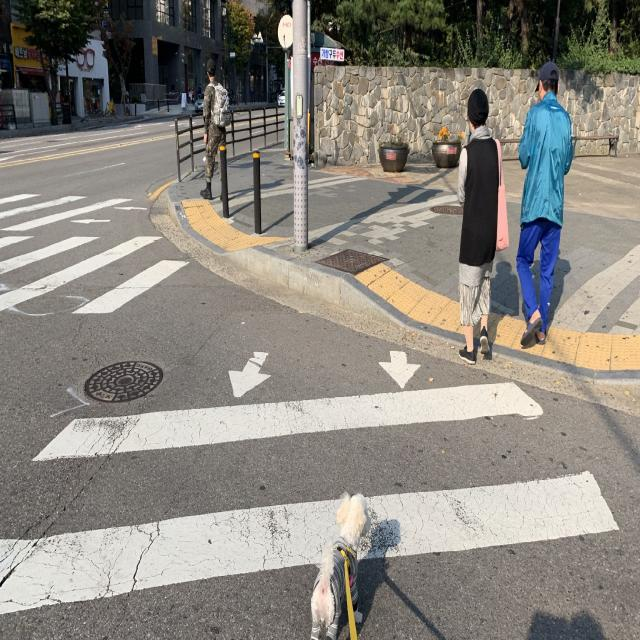횡단보도: (0, 343, 622, 621), (0, 169, 209, 320)
